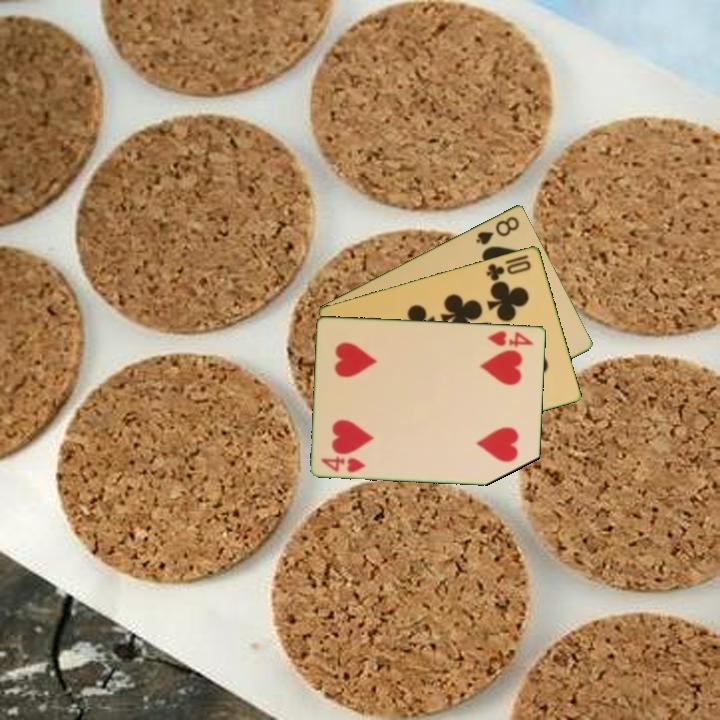10c: (483, 256, 534, 284)
4h: (484, 327, 537, 350), (318, 452, 368, 475)
8s: (472, 212, 522, 248)
